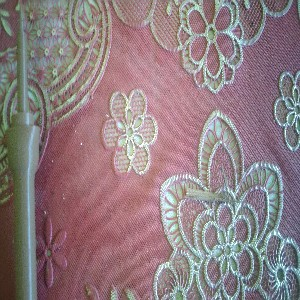solder: (4, 2, 39, 300)
